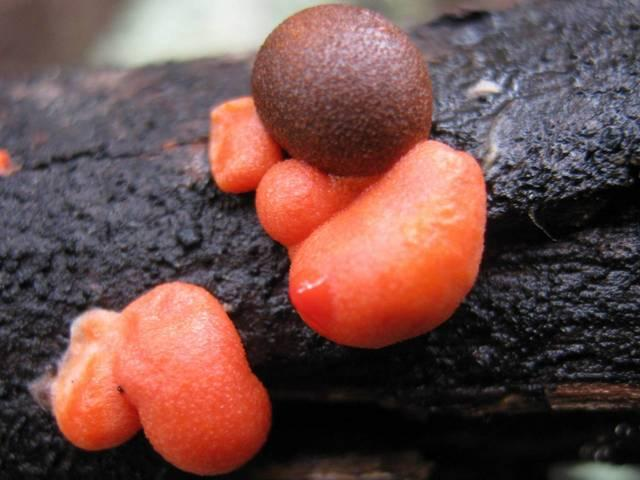poisonous_mushroom: (244, 1, 489, 349), (47, 278, 273, 476), (286, 138, 488, 349), (249, 2, 434, 176), (48, 306, 142, 451)
